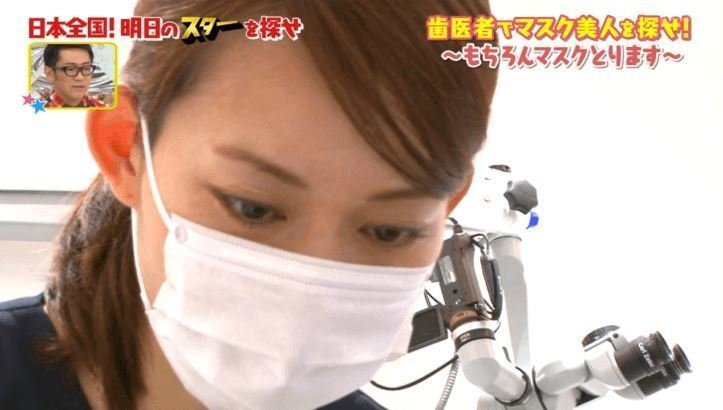mask: (145, 225, 432, 410)
